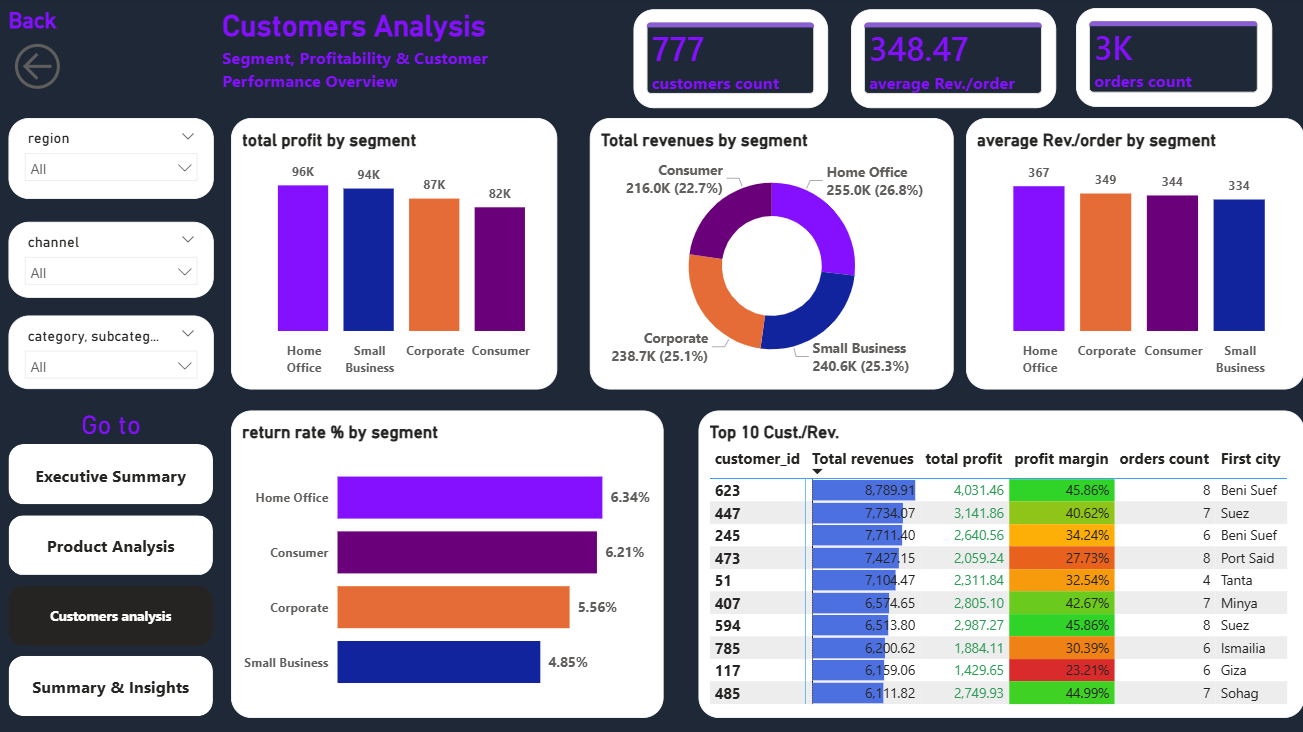

Layout of this report page (visuals, bound fields, positions):
{"tool":"powerbi","page":{"name":"Customers analysis","canvas":[1280,720],"ordinal":2},"visuals":[{"type":"donutChart","fields":{"Category":["Customers cleaned.segment"],"Y":["Measures_table.Total revenues"]},"box":[580.8,117.4,355.8,265.4],"z":0},{"type":"clusteredColumnChart","fields":{"Category":["Customers cleaned.segment"],"Y":["Measures_table.total profit"]},"box":[229.9,117.4,319.2,265.4],"z":1000},{"type":"clusteredBarChart","fields":{"Category":["Customers cleaned.segment"],"Y":["Measures_table.return rate %"]},"box":[229.9,403.5,423.1,300.8],"z":2000},{"type":"clusteredColumnChart","fields":{"Y":["Measures_table.average Rev./order"],"Category":["Customers cleaned.segment"]},"box":[948.9,117.4,331.4,265.4],"z":3000},{"type":"pivotTable","title":"Top 10 Cust./Rev.","fields":{"Rows":["Customers cleaned.customer_id"],"Values":["Measures_table.Total revenues","Measures_table.total profit","Measures_table.profit margin","Measures_table.orders count","Min(Customers cleaned.city)"]},"box":[687.2,403.5,593.1,300.8],"z":4000},{"type":"slicer","fields":{"Values":["Customers cleaned.region"]},"box":[12.2,117.4,200.5,79.5],"z":5000},{"type":"slicer","fields":{"Values":["Order cleaned.channel"]},"box":[12.2,218.9,200.5,74.6],"z":6000},{"type":"slicer","fields":{"Values":["Product cleaned.category","Product cleaned.subcategory"]},"box":[12.2,310.6,200.5,72.1],"z":7000},{"type":"actionButton","title":"Back","box":[12.2,9.8,151.6,85.6],"z":8000},{"type":"textbox","title":"Customers Analysis","box":[216.4,9.8,364.4,107.6],"z":9000},{"type":"cardVisual","fields":{"Data":["Measures_table.customers count"]},"box":[623.6,11,190.8,96.6],"z":10000},{"type":"cardVisual","fields":{"Data":["Measures_table.average Rev./order"]},"box":[836.4,11,200.5,96.6],"z":11000},{"type":"cardVisual","fields":{"Data":["Measures_table.orders count"]},"box":[1056.5,9.8,192,96.6],"z":12000},{"type":"pageNavigator","title":"Go to ","box":[12.2,403.5,200.5,300.8],"z":13000}]}

Visuals, with their boxes in screenshot pixels (x1, y1, x2, y2), scaled from the page's 1280x720 canvas onto the 1303x732 screenshot:
donutChart - Customers cleaned.segment x Measures_table.Total revenues: box=[591, 119, 953, 389]
clusteredColumnChart - Customers cleaned.segment x Measures_table.total profit: box=[234, 119, 559, 389]
clusteredBarChart - Customers cleaned.segment x Measures_table.return rate %: box=[234, 410, 665, 716]
clusteredColumnChart - Measures_table.average Rev./order x Customers cleaned.segment: box=[966, 119, 1302, 389]
"Top 10 Cust./Rev." pivotTable: box=[700, 410, 1302, 716]
slicer - Customers cleaned.region: box=[12, 119, 217, 200]
slicer - Order cleaned.channel: box=[12, 223, 217, 298]
slicer - Product cleaned.category x Product cleaned.subcategory: box=[12, 316, 217, 389]
"Back" actionButton: box=[12, 10, 167, 97]
"Customers Analysis" textbox: box=[220, 10, 591, 119]
cardVisual - Measures_table.customers count: box=[635, 11, 829, 109]
cardVisual - Measures_table.average Rev./order: box=[851, 11, 1056, 109]
cardVisual - Measures_table.orders count: box=[1075, 10, 1271, 108]
"Go to " pageNavigator: box=[12, 410, 217, 716]
